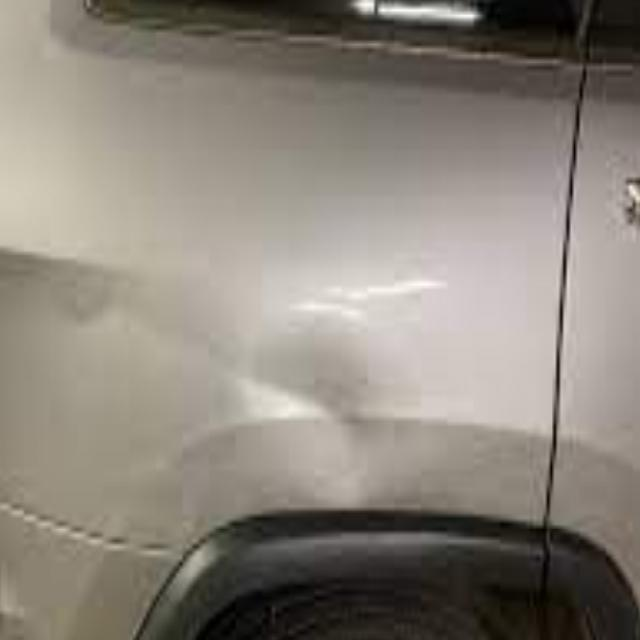dents: (190, 284, 414, 524)
